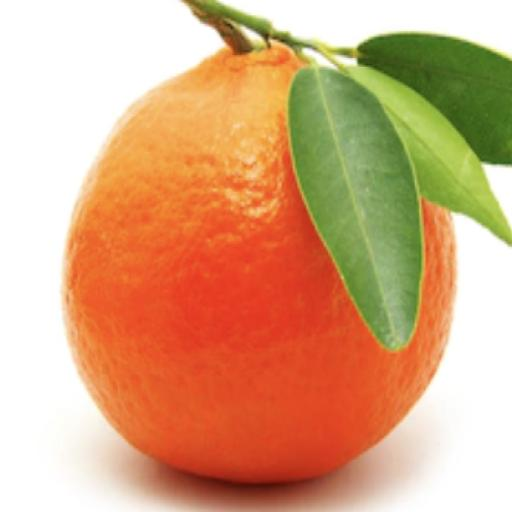orange: (64, 45, 454, 482)
